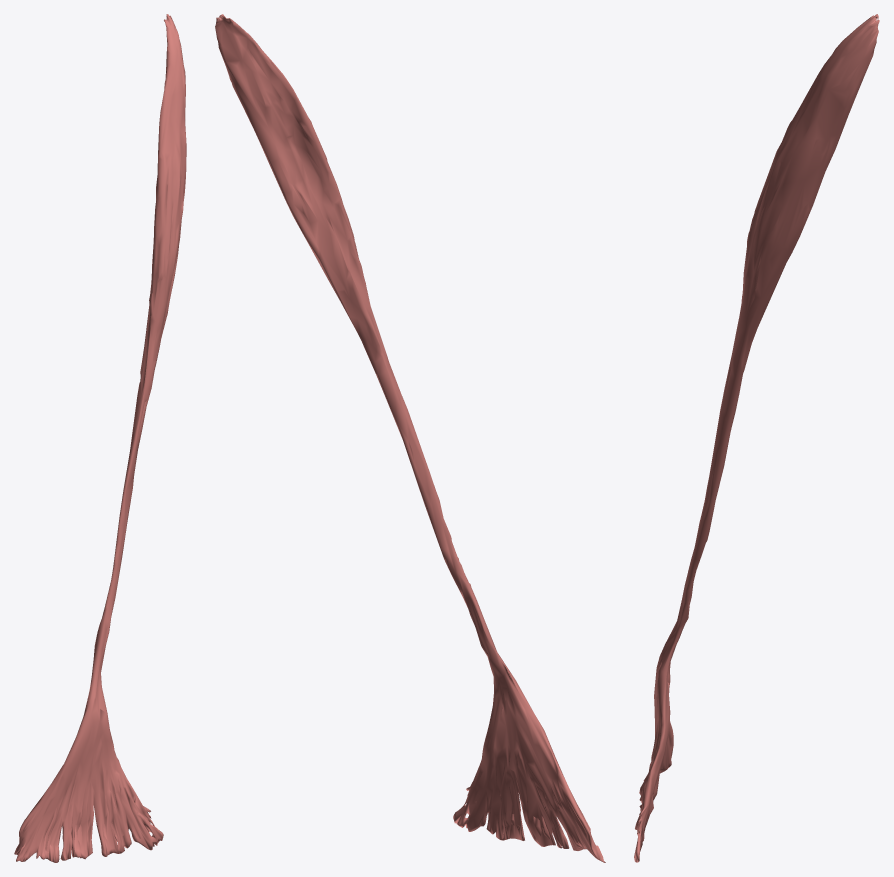
3 renders of one model, left to right at view 1: azimuth 30°, elevation 25°; view 2: azimuth 150°, elevation 25°; view 3: azimuth 270°, elevation 25°, orthographic. The views are drawn at different scales.
Visible parts, largest first — view 1: ZA_10ee0da80d3f847f; view 2: ZA_10ee0da80d3f847f; view 3: ZA_10ee0da80d3f847f.
Part boxes in pixels (x1,y1,x2,y2): ZA_10ee0da80d3f847f: (14, 14, 186, 862); ZA_10ee0da80d3f847f: (215, 14, 605, 862); ZA_10ee0da80d3f847f: (634, 14, 879, 862).
Bounding box in the file's own units: 0.1152 × 0.3313 × 0.0806.
